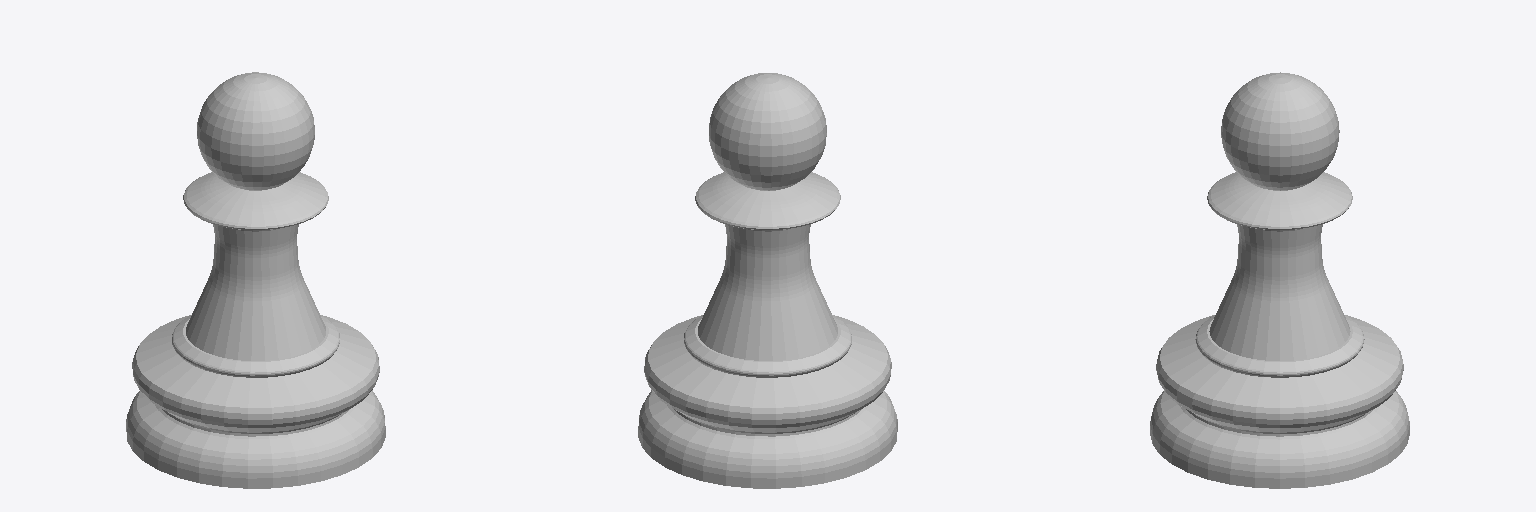
Rendered from pawn5.obj.
3 views of the same model, side by side, from view 1: azimuth 30°, elevation 25°; view 2: azimuth 150°, elevation 25°; view 3: azimuth 270°, elevation 25° (orthographic).
Visible parts, largest first — view 1: Light_Pawn_5; view 2: Light_Pawn_5; view 3: Light_Pawn_5.
Part boxes in pixels (bbox=[...]): Light_Pawn_5: bbox=[126, 72, 385, 488]; Light_Pawn_5: bbox=[638, 73, 897, 488]; Light_Pawn_5: bbox=[1150, 72, 1409, 488].
Bounding box in the file's own units: 1.15 × 1.73 × 1.15.